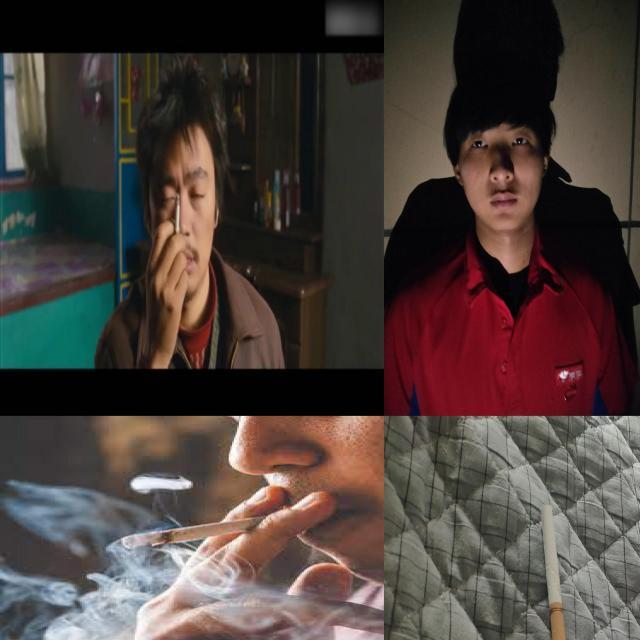smoke: (122, 511, 308, 548), (540, 504, 569, 640), (174, 193, 182, 234)
